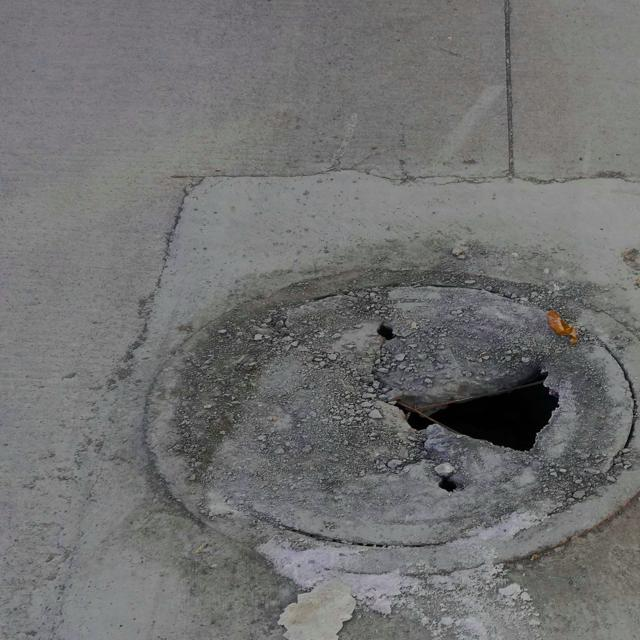broke: (141, 271, 640, 571)
